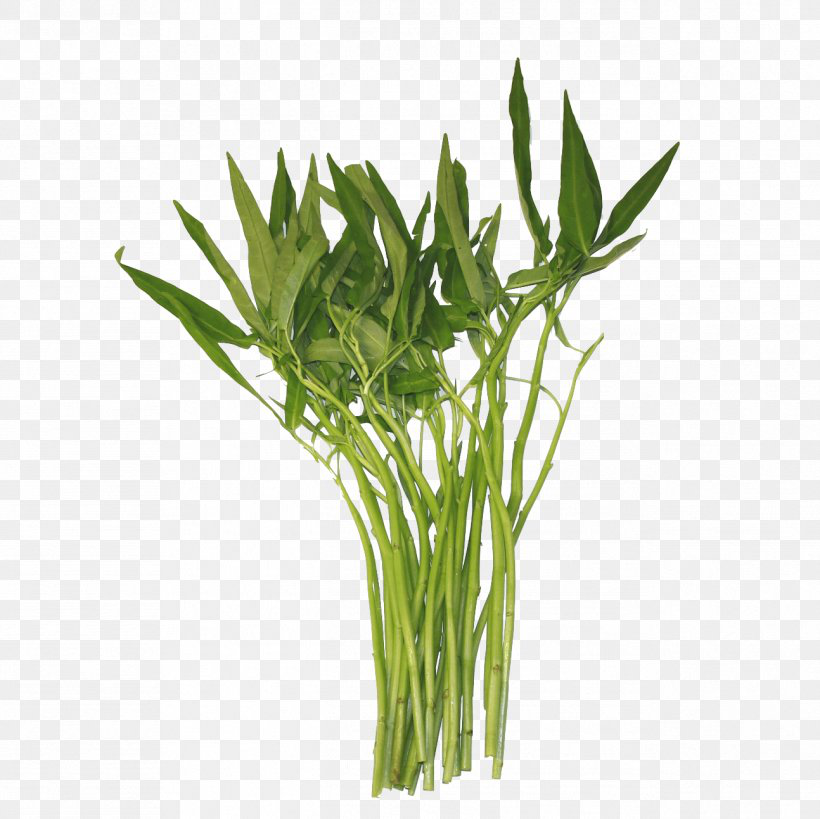Kangkung: (127, 106, 716, 817)
